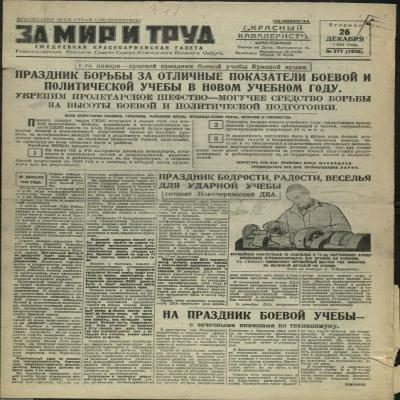printed_products: (0, 0, 400, 391)
